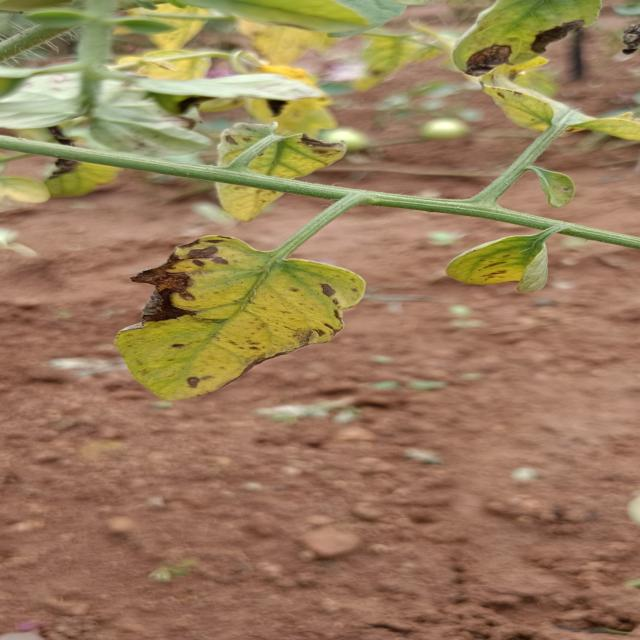tomato_early blight: (106, 231, 362, 405), (203, 119, 342, 216), (439, 0, 601, 75), (481, 69, 640, 143), (231, 5, 342, 88), (443, 226, 565, 295)
